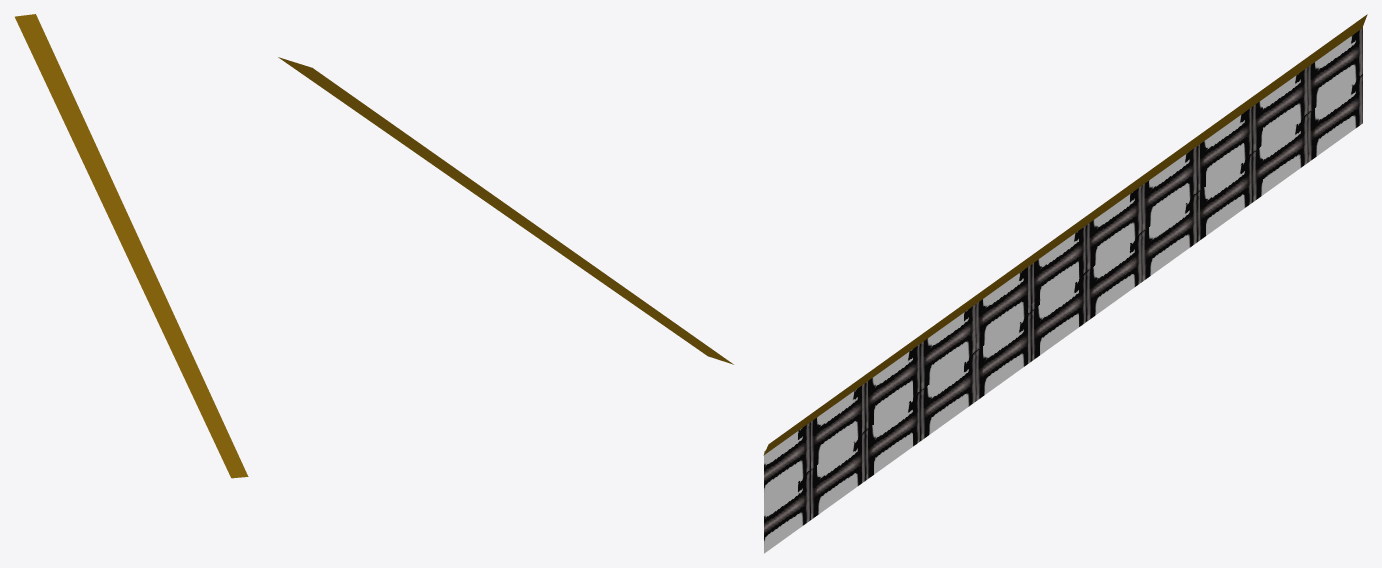
Rendered from TTreppeGeländer [Gitter]_1196.glb.
3 views of the same model, side by side, from view 1: azimuth 30°, elevation 25°; view 2: azimuth 150°, elevation 25°; view 3: azimuth 270°, elevation 25° (orthographic). The views are drawn at different scales.
Parts seen in each view (by area): view 1: pPlaneShape6; view 2: pPlaneShape6; view 3: pPlaneShape1, pPlaneShape6.
Boxes of the visible parts, <box> form: pPlaneShape6: <box>15,14,248,478</box>; pPlaneShape6: <box>278,57,733,364</box>; pPlaneShape1: <box>764,27,1362,553</box>; pPlaneShape6: <box>763,14,1367,455</box>.
Bounding box in the file's own units: 0.0264 × 0.493 × 0.5055.
2 materials, 1 textured.
